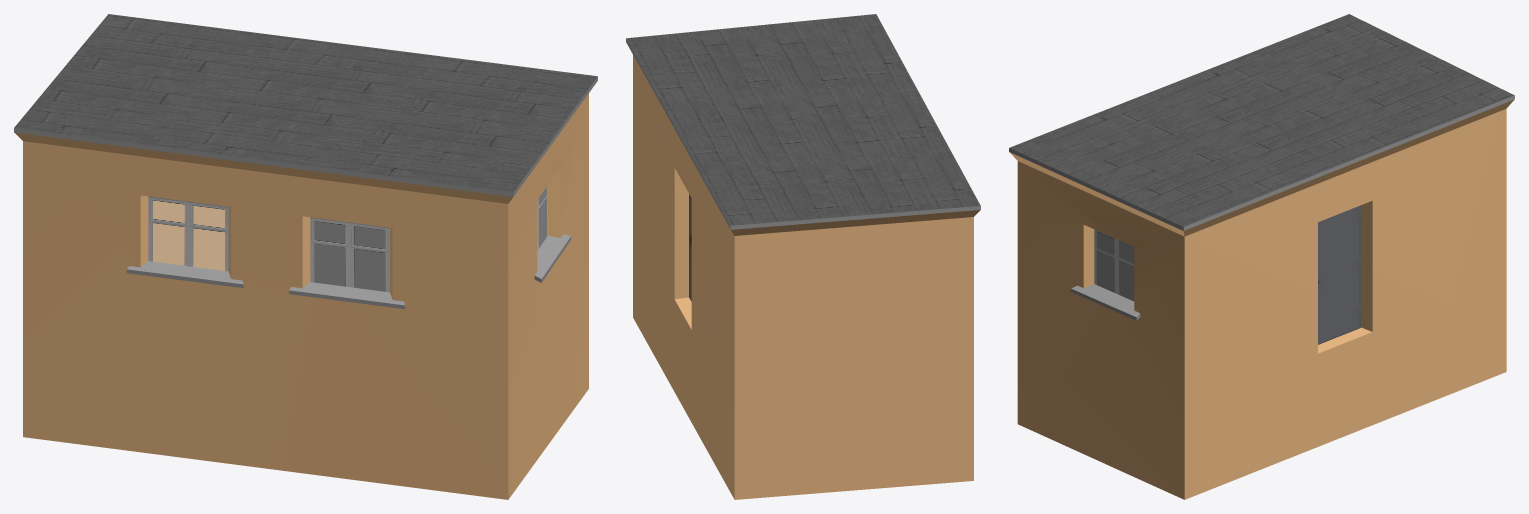
3 renders of one model, left to right at view 1: azimuth 30°, elevation 25°; view 2: azimuth 150°, elevation 25°; view 3: azimuth 270°, elevation 25°, orthographic. The views are drawn at different scales.
Parts seen in each view (by area): view 1: 01020-50@81300; view 2: 01020-50@81300; view 3: 01020-50@81300.
Part boxes in pixels (bbox=[...]): 01020-50@81300: bbox=[14, 14, 597, 499]; 01020-50@81300: bbox=[626, 14, 980, 499]; 01020-50@81300: bbox=[1009, 14, 1514, 499].
Size of the model in its own units: 6.58 by 3.98 by 6.6.
Materials: 1 (1 with a texture image).
